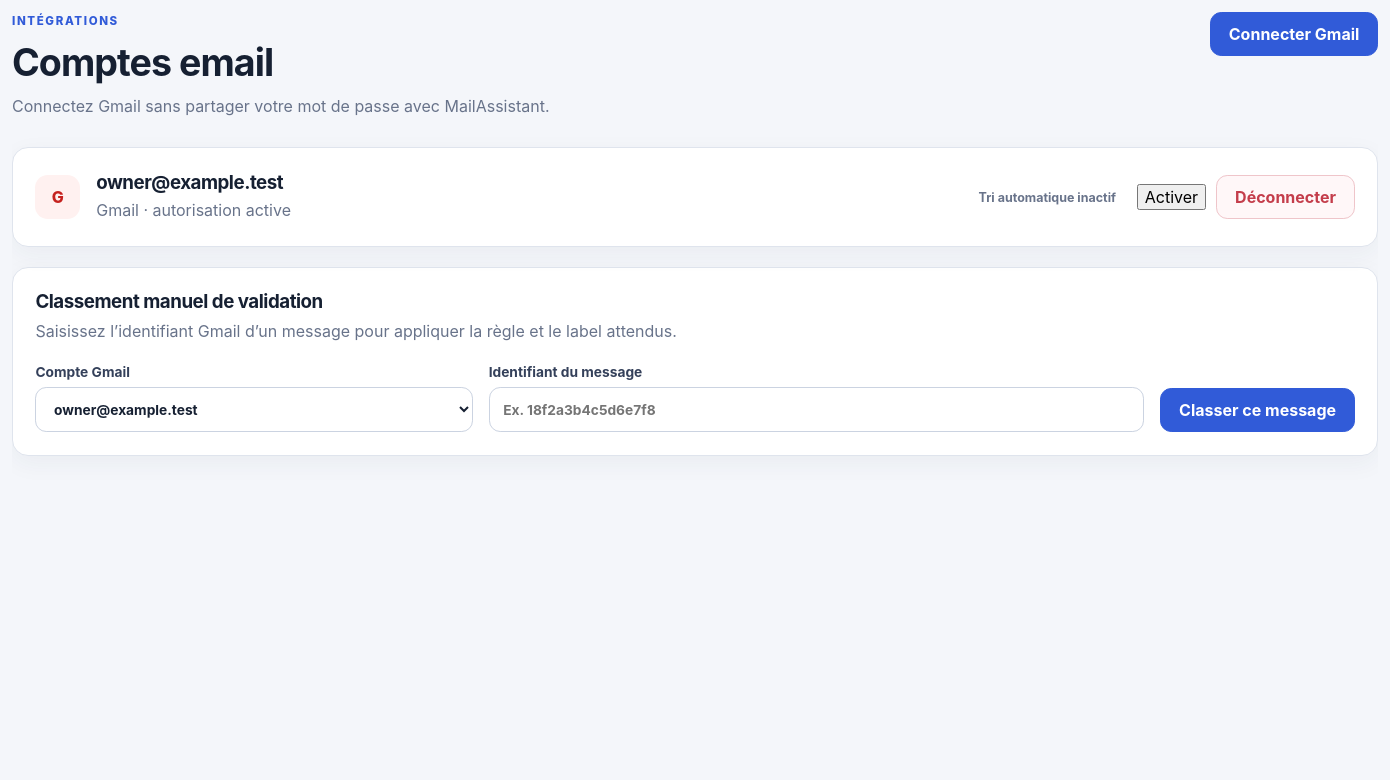
Test: MailAccountsPanel › affiche un compte Gmail et permet de lancer un classement manuel
Type "message-123" into the field labelled "Identifiant du message". click: (817, 410)
box: x1=489 y1=387 x2=1144 y2=432
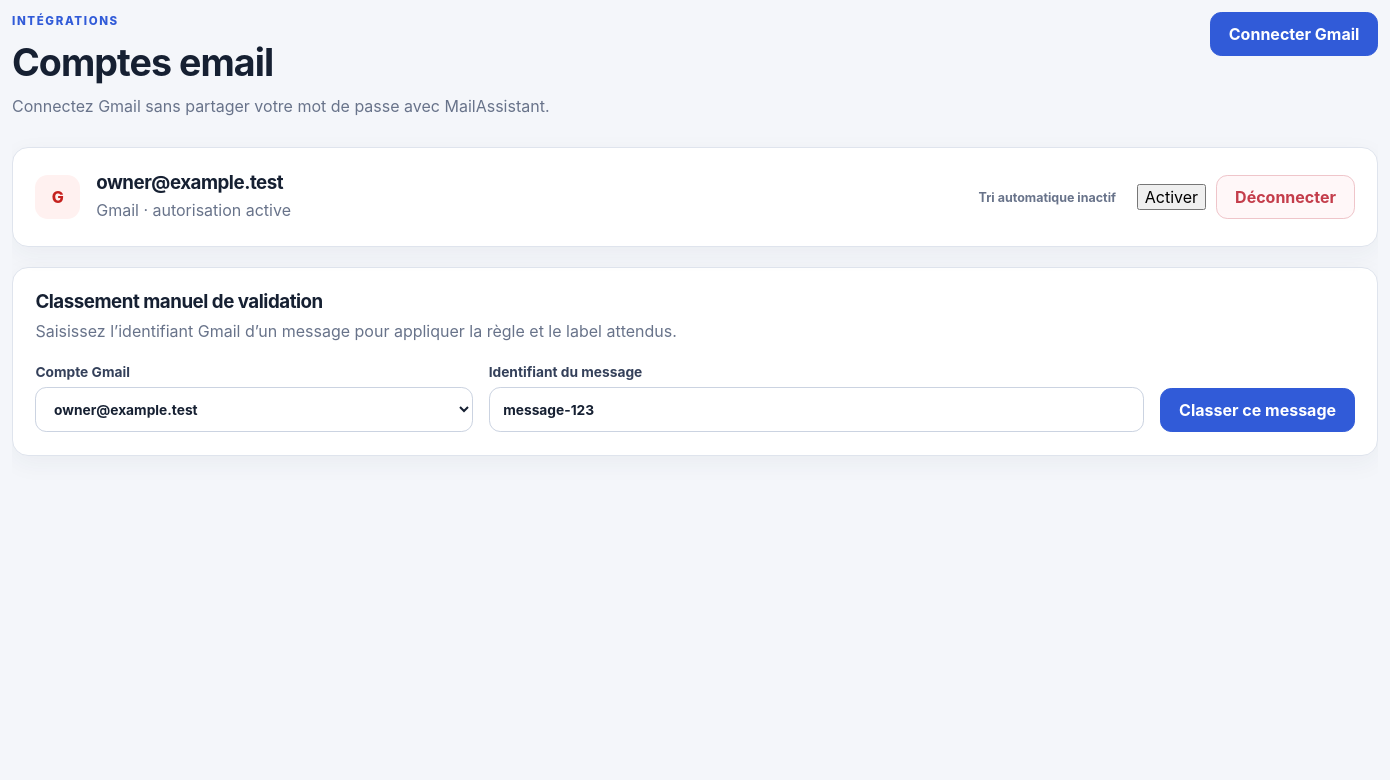
Click the button "Classer ce message". click: (1258, 410)
box: x1=1160 y1=388 x2=1355 y2=432
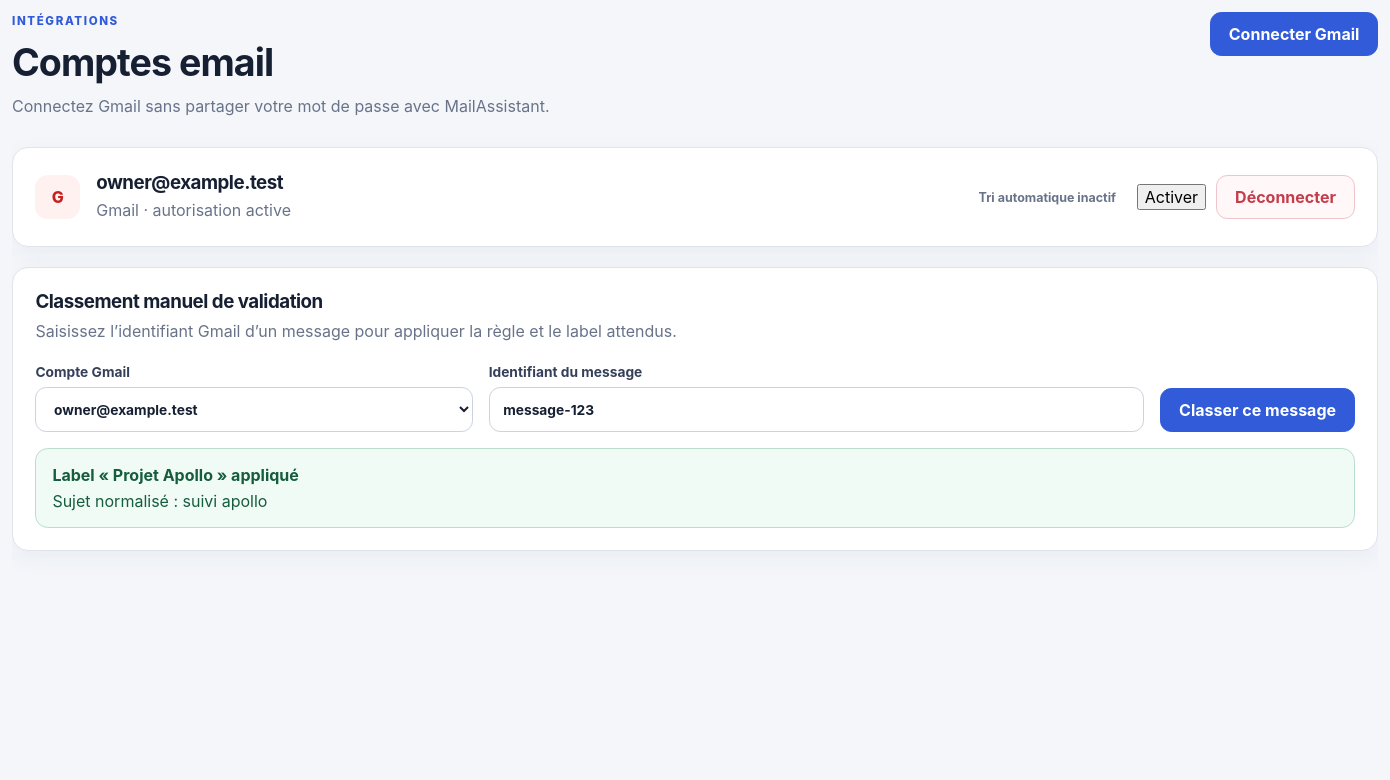
Result: the text "Label « Projet Apollo » appliqué" is shown at x1=52 y1=465 x2=299 y2=485
